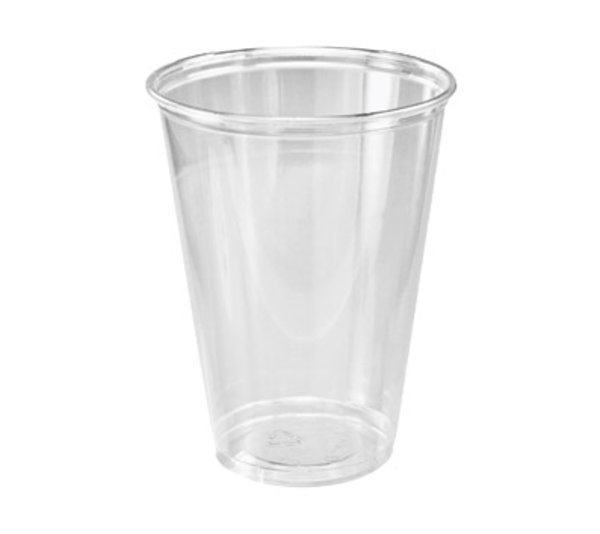plastic_glass: (142, 36, 465, 493)
